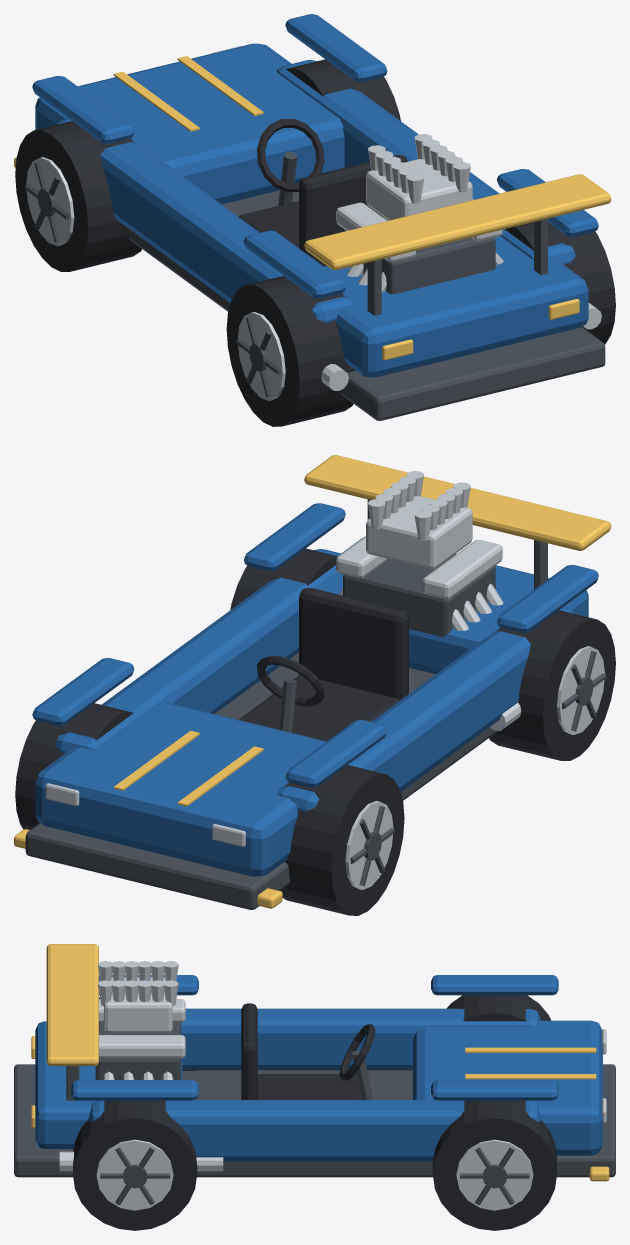
3 renders of one model, top to bottom at view 1: azimuth 30°, elevation 25°; view 2: azimuth 150°, elevation 25°; view 3: azimuth 270°, elevation 25°, orthographic. The views are drawn at different scales.
Visible parts, largest first — view 1: PaintNose, PaintRearDeck, PaintSidePod, WheelRL, Chassis, WheelFL, AccentWing, PaintSidePod.001, EngineBlock, SeatBack, WheelRR, EngineIntake (+14 smaller); view 2: PaintNose, PaintSidePod.001, WheelFL, PaintSidePod, WheelRL, Chassis, SeatBack, AccentWing, EngineBlock, PaintRearDeck, Seat, EngineIntake (+13 smaller); view 3: PaintSidePod.001, PaintSidePod, PaintNose, WheelRR, WheelFR, Chassis, AccentWing, PaintRearDeck, PaintFender.001, PaintFender.002, PaintFender.003, Seat (+12 smaller).
Boxes of the visible parts, box(x1,y1,x2,y2) form: PaintNose: box(35, 43, 344, 204); PaintRearDeck: box(324, 236, 588, 377); PaintSidePod: box(56, 118, 354, 322); WheelRL: box(226, 276, 355, 426); Chassis: box(129, 190, 605, 420); WheelFL: box(15, 121, 141, 271); AccentWing: box(304, 174, 611, 269); PaintSidePod.001: box(276, 60, 575, 264); EngineBlock: box(343, 217, 495, 294); SeatBack: box(299, 155, 407, 266); WheelRR: box(505, 222, 615, 344); EngineIntake: box(366, 159, 472, 220); PaintNose: box(35, 702, 326, 876); PaintSidePod.001: box(55, 549, 341, 753); WheelFL: box(280, 765, 404, 915); PaintSidePod: box(276, 607, 574, 811); WheelRL: box(489, 610, 615, 760); Chassis: box(25, 652, 497, 909); SeatBack: box(299, 587, 408, 700); AccentWing: box(304, 455, 611, 550); EngineBlock: box(343, 554, 495, 637); PaintRearDeck: box(317, 537, 588, 673); Seat: box(239, 675, 399, 741); EngineIntake: box(366, 496, 472, 569); PaintSidePod.001: box(89, 1100, 540, 1161); PaintSidePod: box(181, 1008, 540, 1070); PaintNose: box(413, 1020, 602, 1155); WheelRR: box(73, 1100, 197, 1230); WheelFR: box(432, 1100, 556, 1230); Chassis: box(14, 1064, 615, 1177); AccentWing: box(46, 944, 98, 1065); PaintRearDeck: box(35, 1021, 182, 1148); PaintFender.001: box(431, 975, 558, 995); PaintFender.002: box(71, 1080, 198, 1100); PaintFender.003: box(431, 1080, 558, 1100); Seat: box(257, 1074, 362, 1099).
Bounding box in the file's own units: 495 × 323 × 920.
